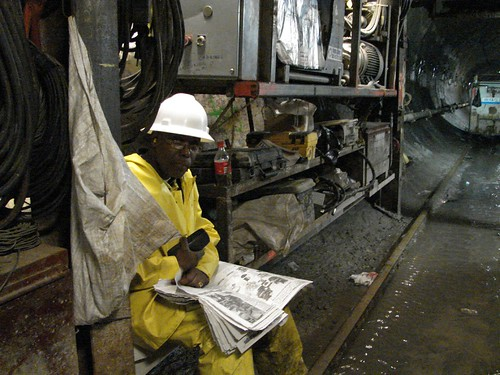person hardhat: (112, 90, 309, 375)
